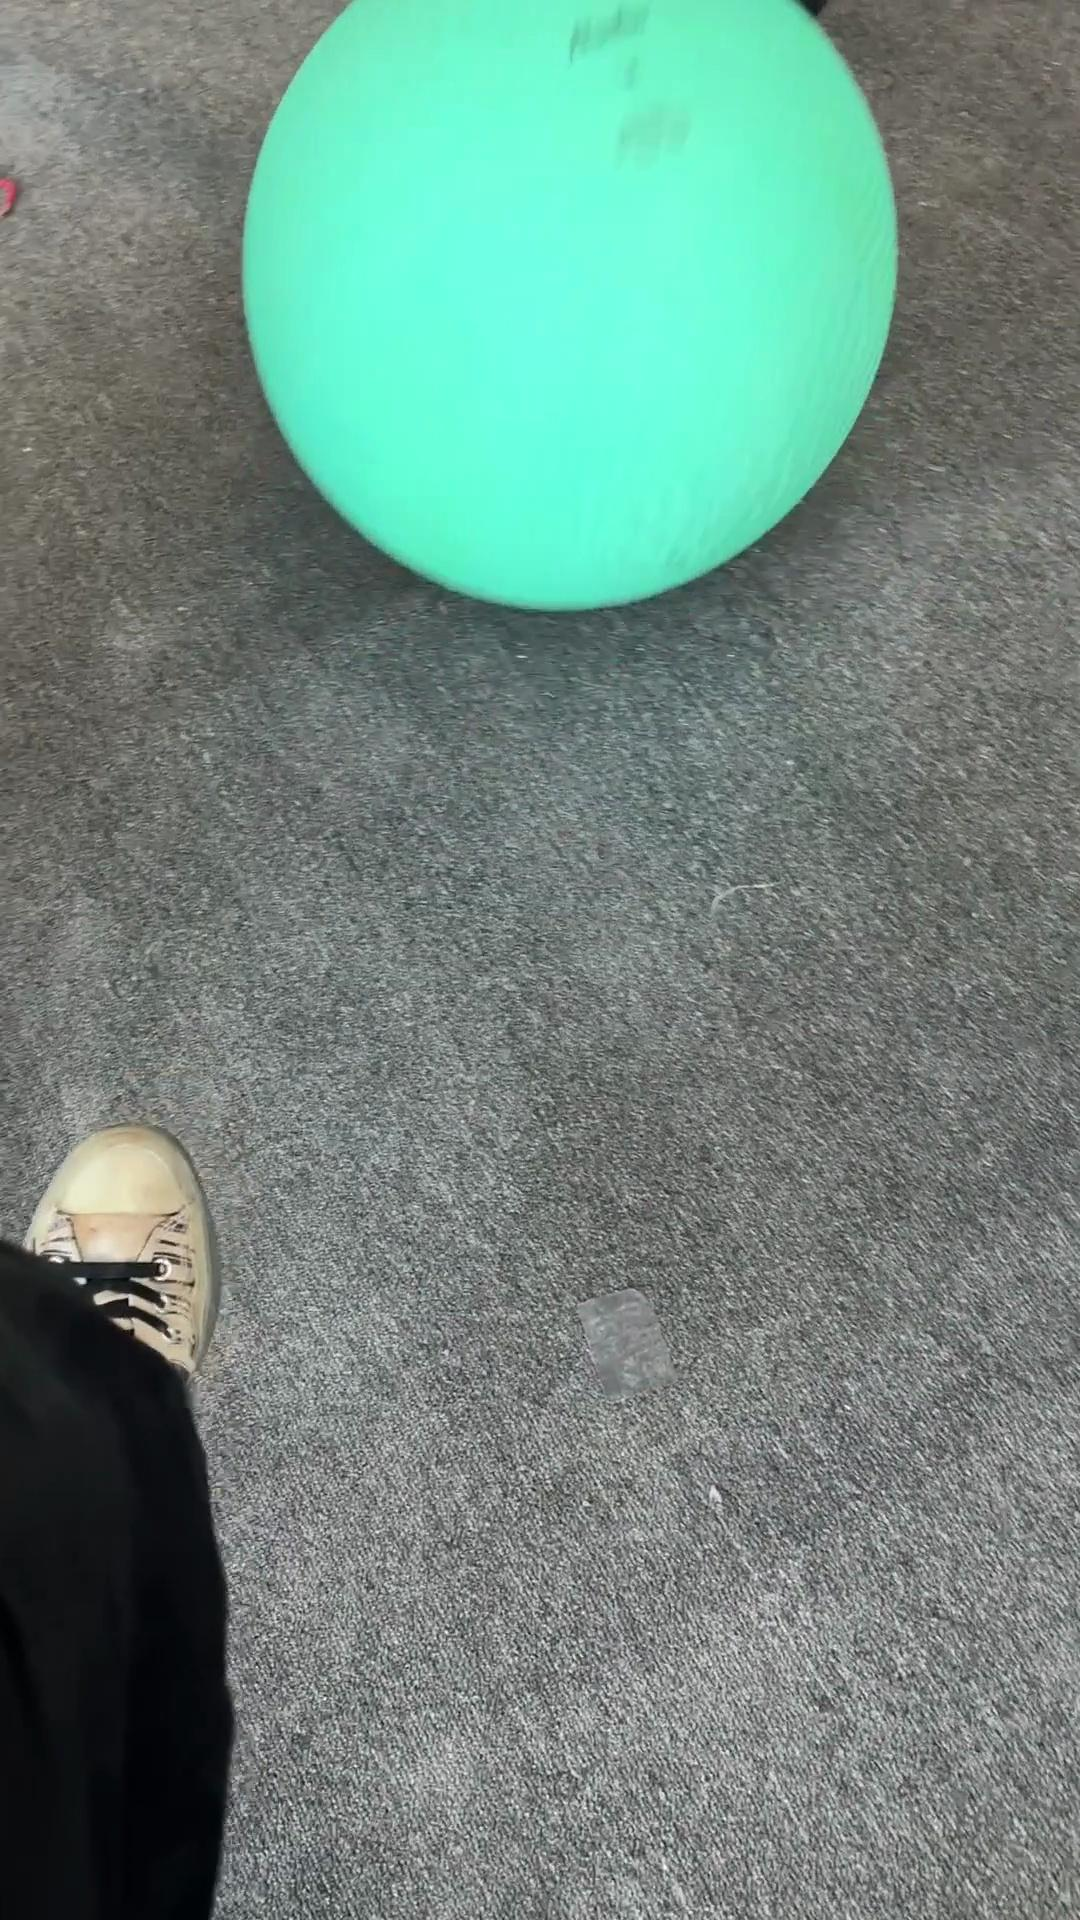ALGAE: (237, 0, 899, 615)
